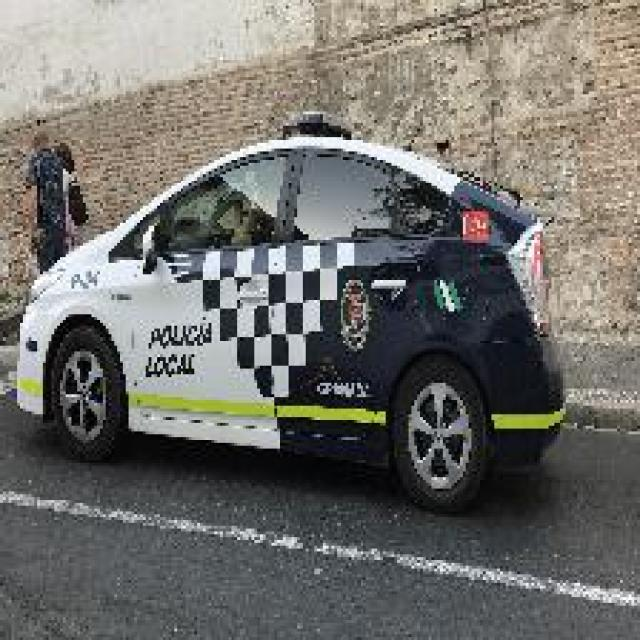Police-car: (14, 109, 566, 512)
